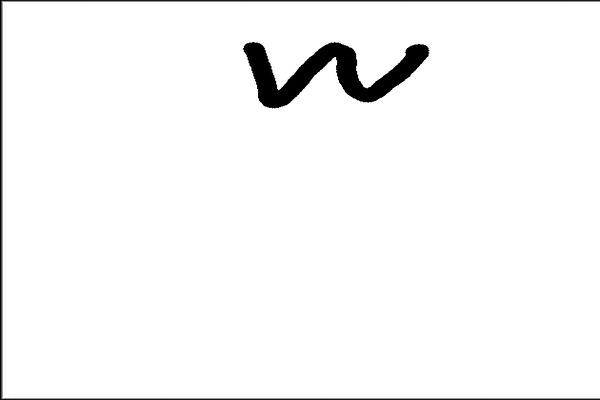w: (237, 22, 454, 126)
